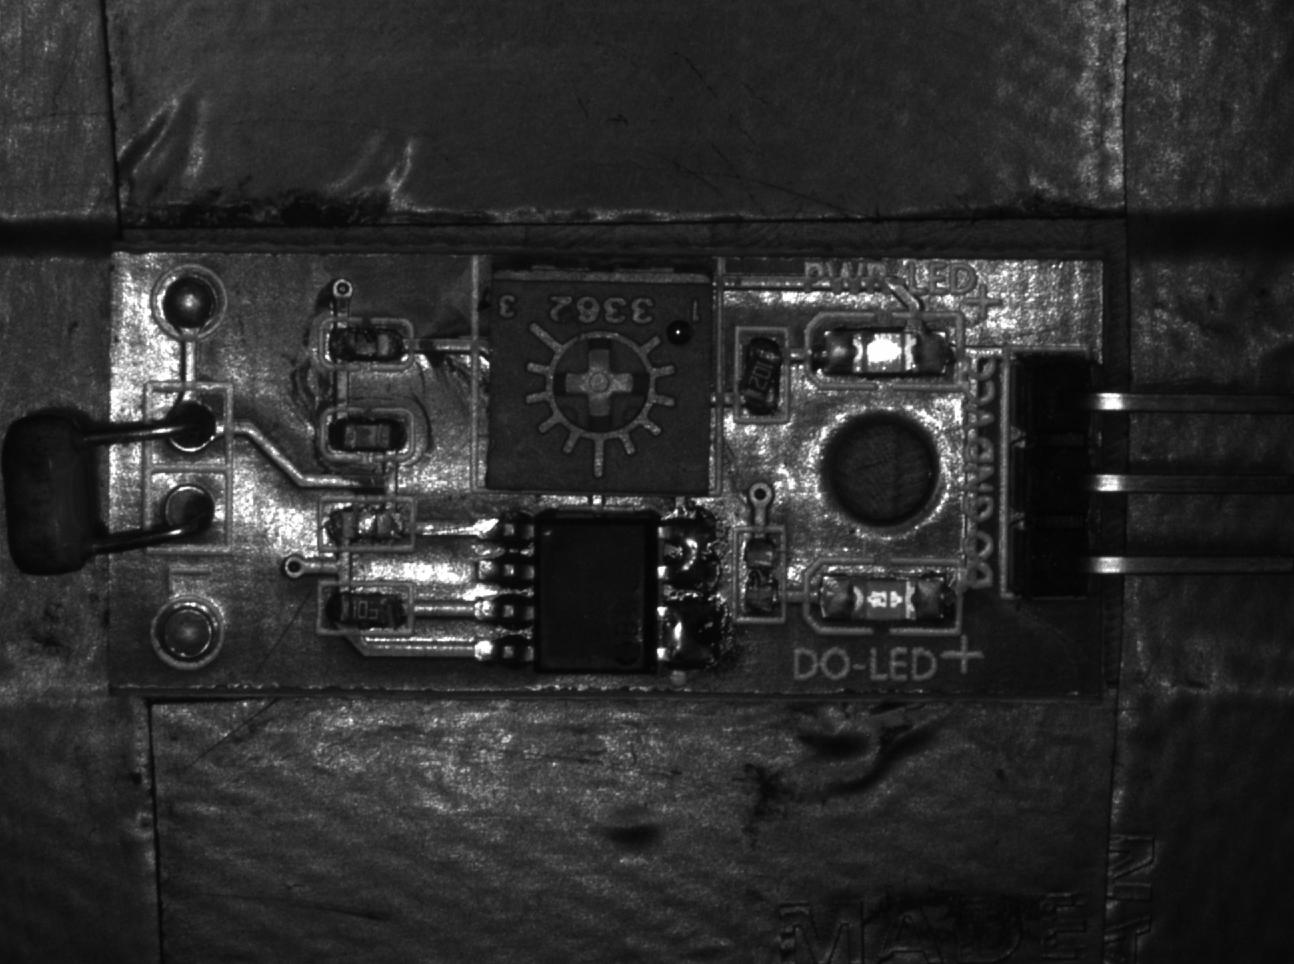bridge: (657, 599, 730, 672), (658, 513, 721, 591)
lifted: (736, 327, 786, 422)
miss: (319, 496, 416, 548), (737, 524, 786, 621), (322, 318, 411, 369)
ok: (319, 581, 413, 637), (322, 408, 414, 459)
